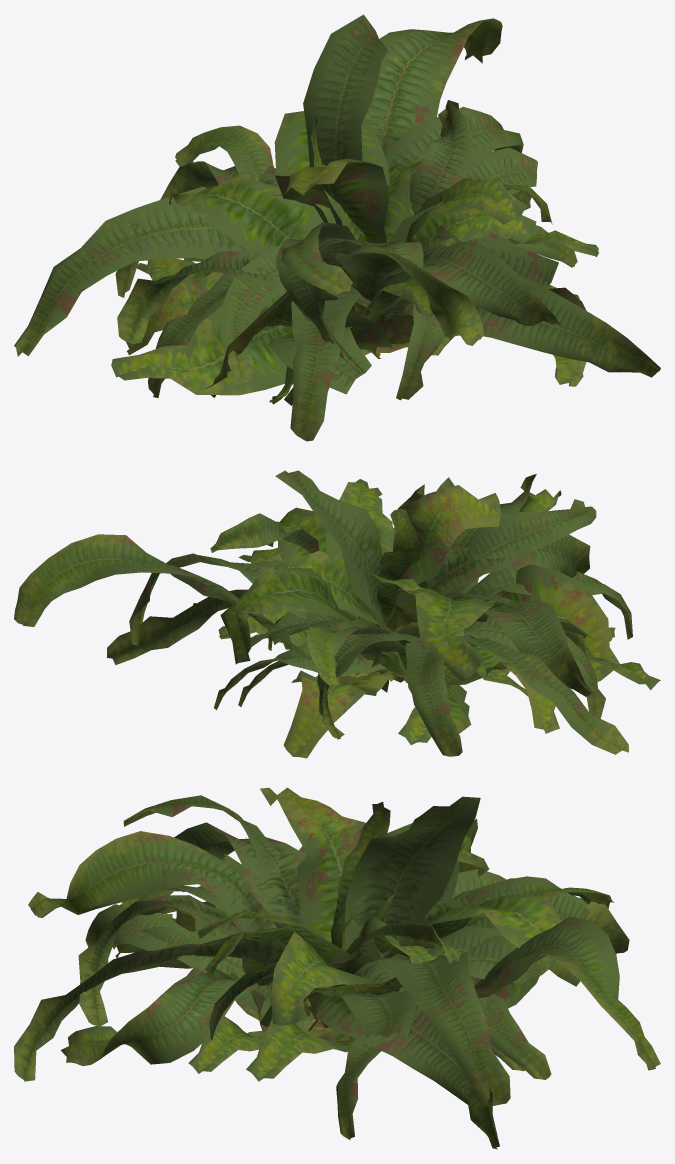
The model's file is fern_02.glb.
The picture shows the model from 3 angles, top to bottom: view 1: azimuth 30°, elevation 25°; view 2: azimuth 150°, elevation 25°; view 3: azimuth 270°, elevation 25°; orthographic projection. The views are drawn at different scales.
Parts seen in each view (by area): view 1: fern_02_1, fern_02_2, fern_02_3, fern_02_0; view 2: fern_02_1, fern_02_2, fern_02_0, fern_02_3; view 3: fern_02_1, fern_02_2, fern_02_0, fern_02_3.
Boxes of the visible parts, <box> form: fern_02_1: <box>14,14,660,441</box>; fern_02_2: <box>111,116,586,405</box>; fern_02_3: <box>137,238,579,404</box>; fern_02_0: <box>198,100,558,355</box>; fern_02_1: <box>14,470,632,758</box>; fern_02_2: <box>107,477,660,756</box>; fern_02_0: <box>210,513,528,709</box>; fern_02_3: <box>267,554,615,744</box>; fern_02_1: <box>14,787,660,1139</box>; fern_02_2: <box>60,795,613,1149</box>; fern_02_0: <box>115,893,551,1079</box>; fern_02_3: <box>127,901,407,1073</box>.
Size of the model in its own units: 0.9897 by 0.4277 by 0.8937.
1 material, 1 textured.
